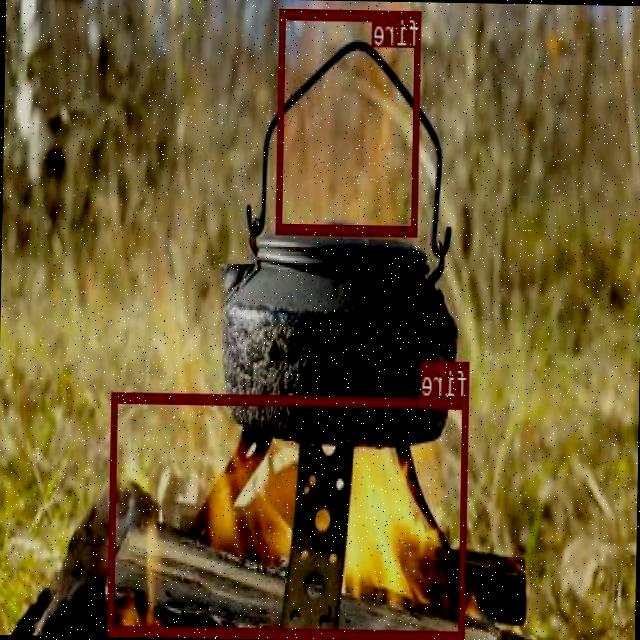fire: (110, 391, 468, 638), (276, 8, 422, 234)
